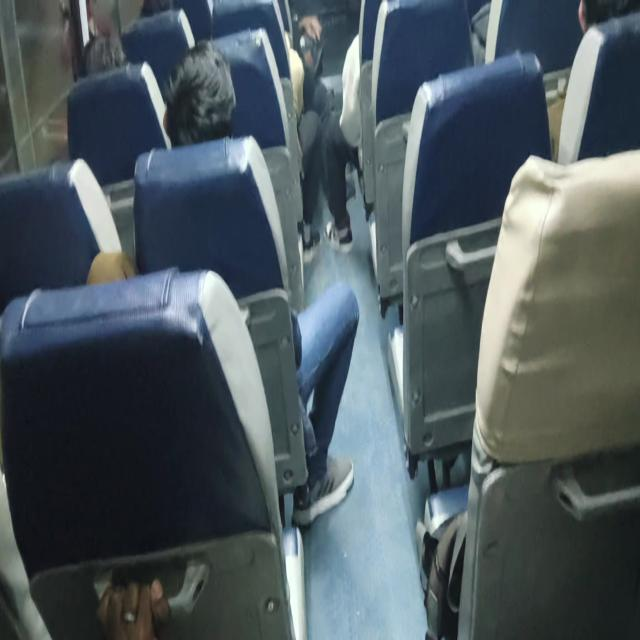person: (86, 39, 360, 527), (162, 39, 236, 147), (95, 567, 172, 638)
